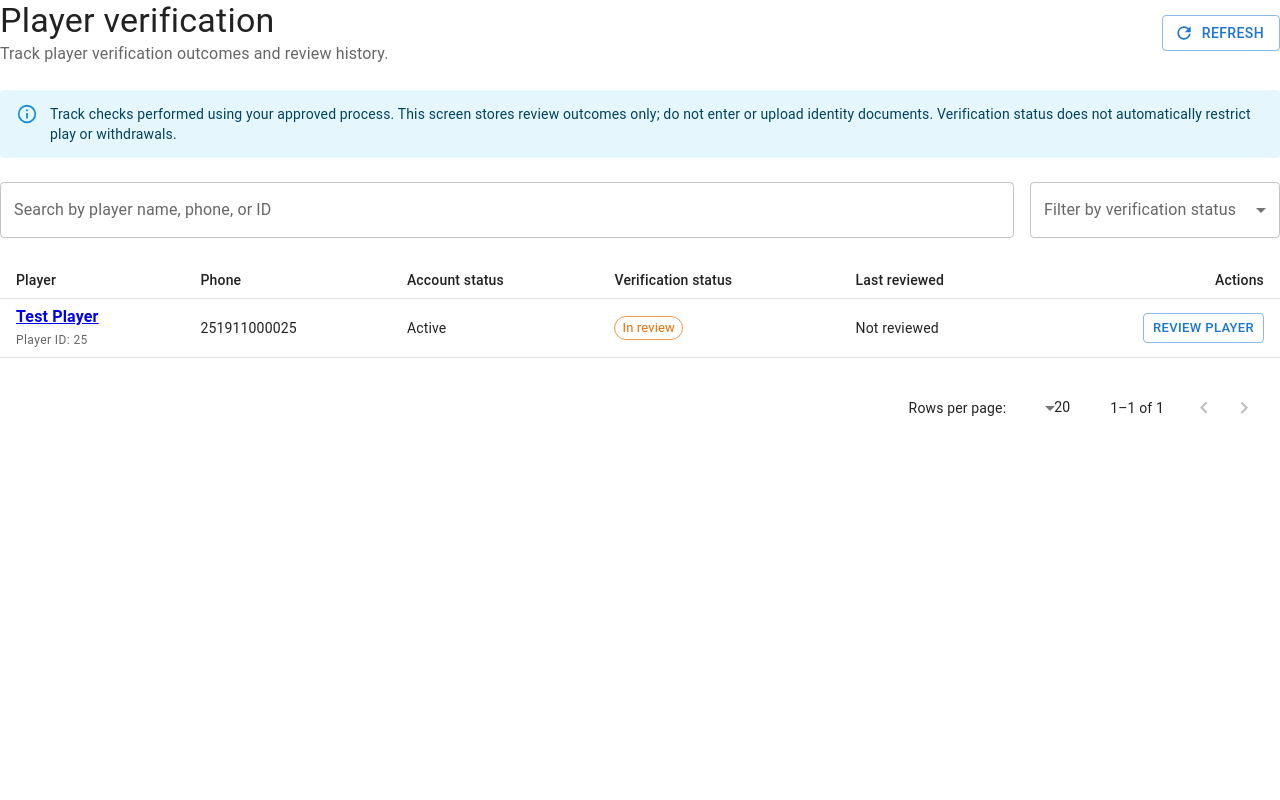
Test: PlayerVerificationPage › explains manual review, lists players, and records verified status with its matching reason
This screenshot has width=1280, height=800.
Expected: the heading "Player verification" is shown, x1=0 y1=0 x2=275 y2=40
Expected: the text "do not enter or upload identity documents" is shown, x1=50 y1=106 x2=1251 y2=142
Click the button "Review player".
click(1204, 328)  # box x1=1143 y1=313 x2=1264 y2=343
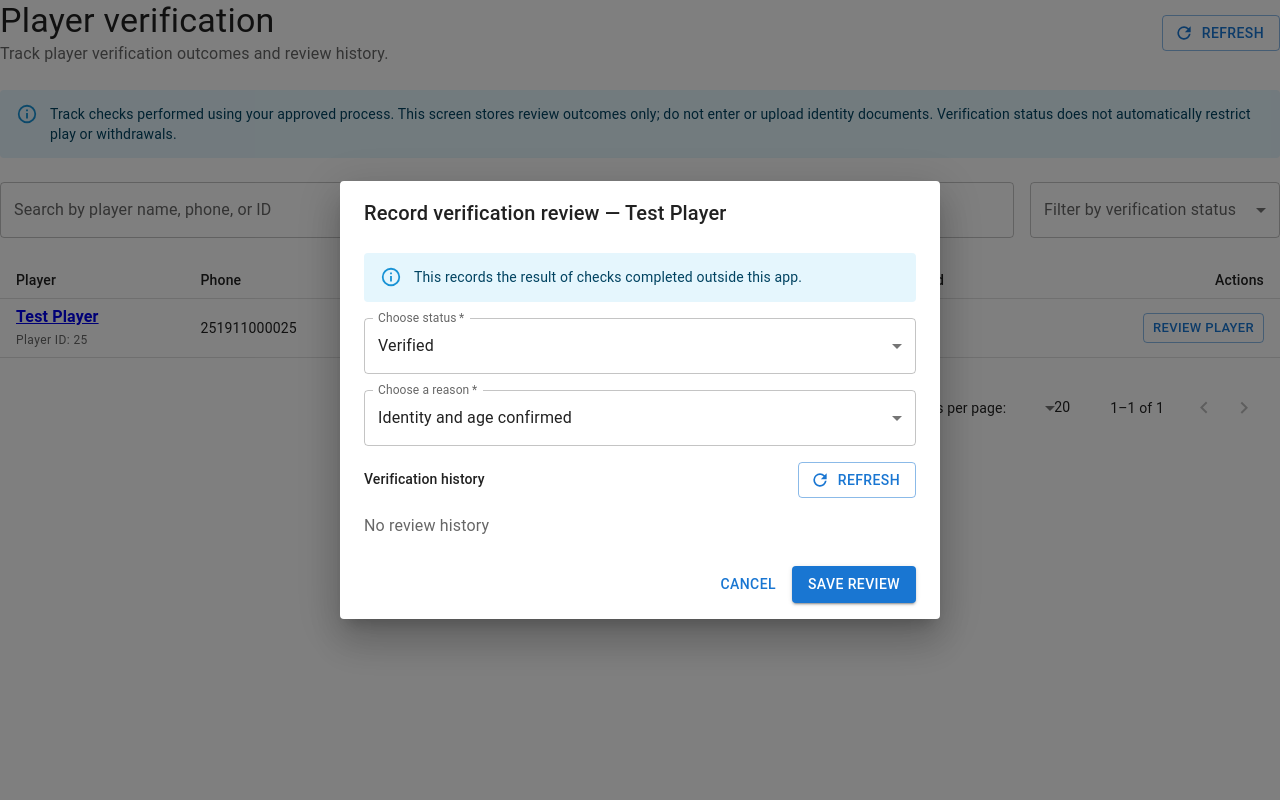
Result: the heading "Record verification review — Test Player" is shown at x1=364 y1=202 x2=726 y2=226
Result: the text "No review history" is shown at x1=364 y1=516 x2=489 y2=535
Click the dropdown named "Choose status".
click(406, 346)  # box x1=378 y1=336 x2=434 y2=355
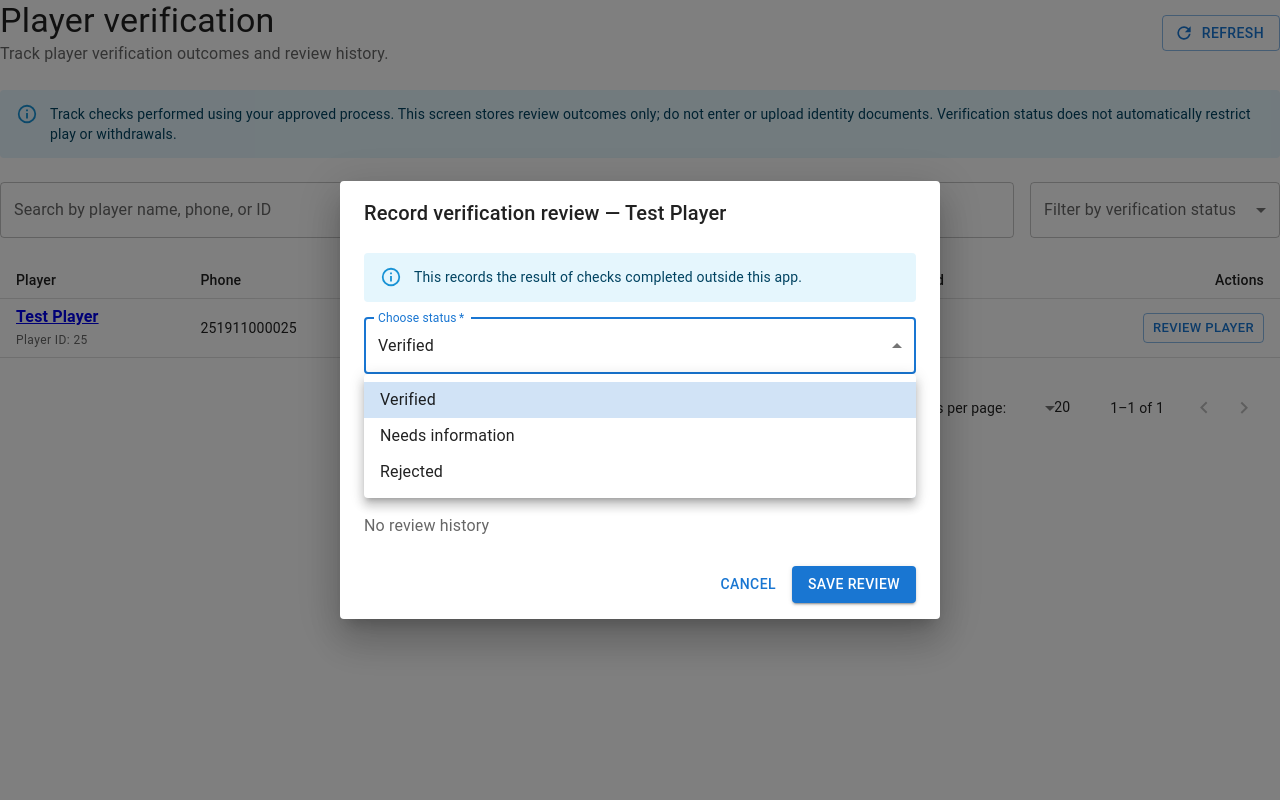
Click the option "Verified".
click(408, 400)  # box x1=364 y1=382 x2=916 y2=418
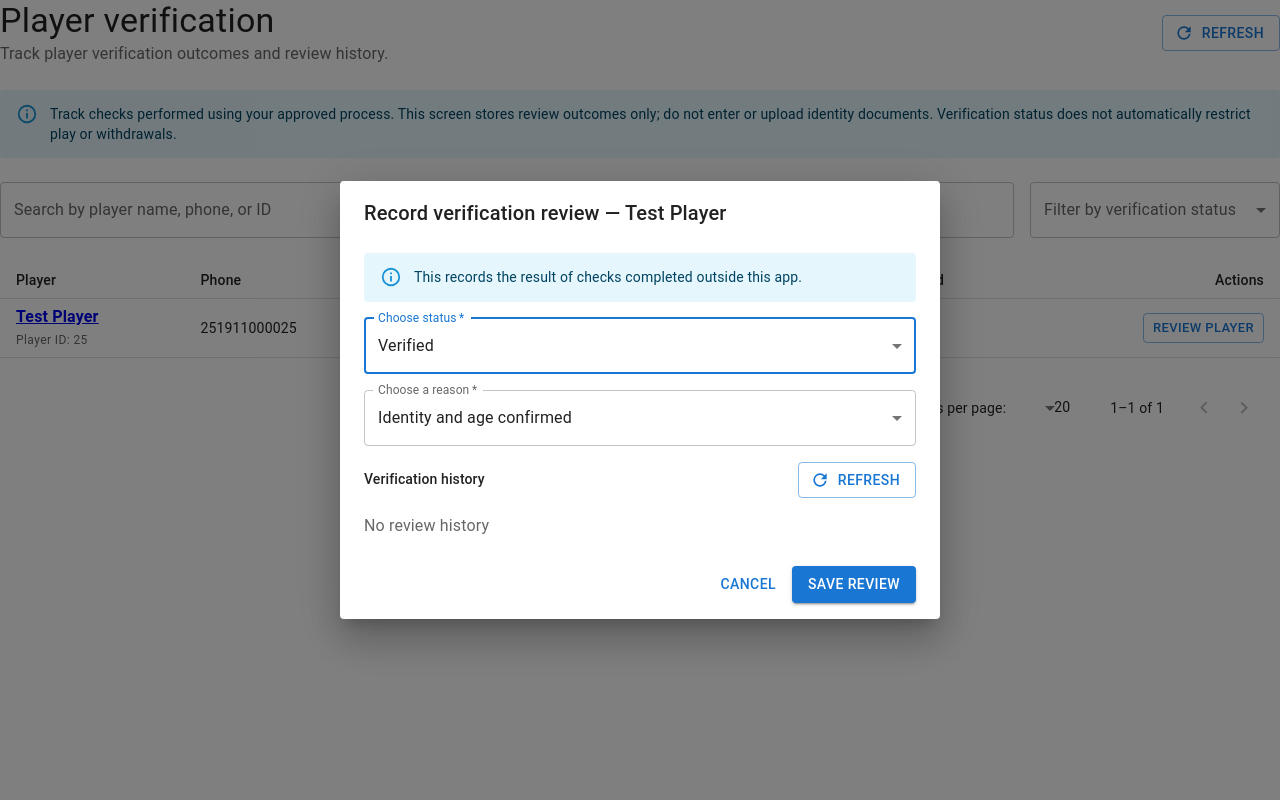
Result: the dropdown named "Choose a reason" reads "Identity and age confirmed" at x1=378 y1=408 x2=572 y2=427
Click the button "Save review".
click(854, 584)  # box x1=792 y1=566 x2=916 y2=602
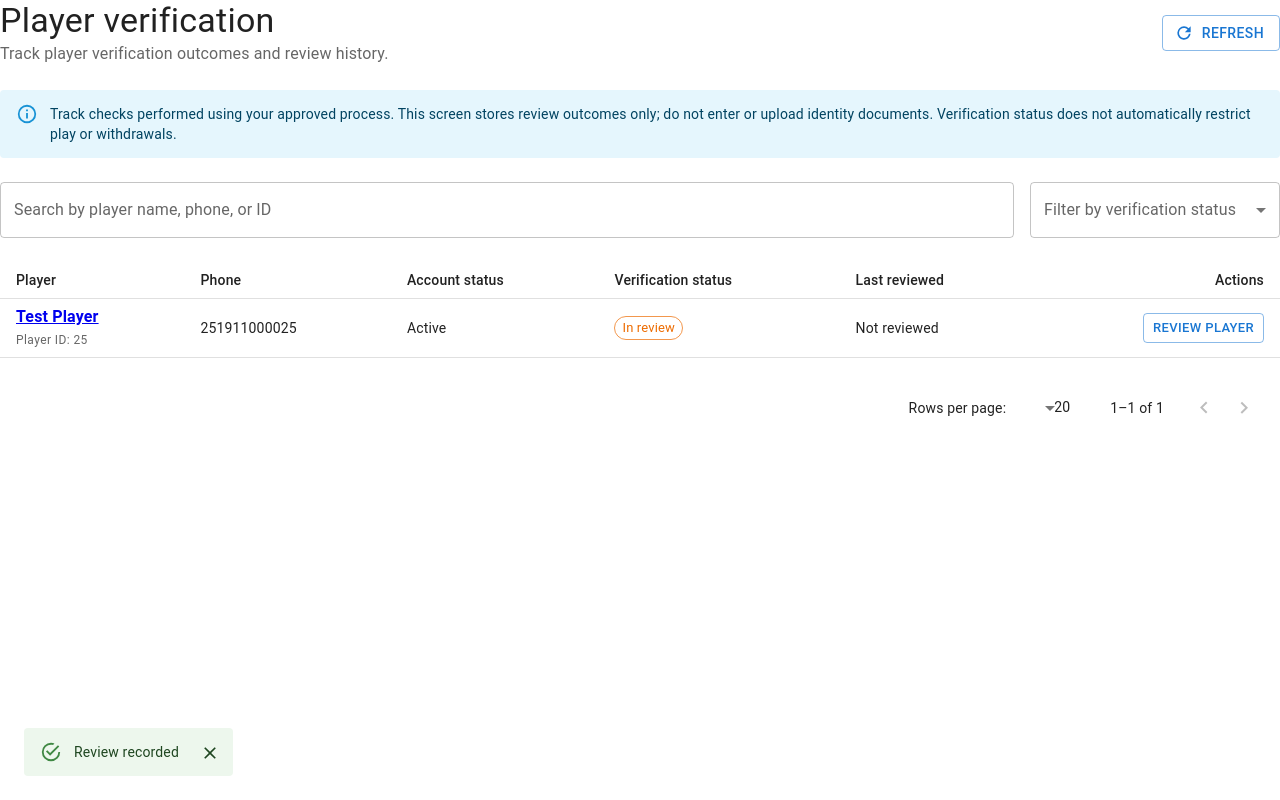
Result: the text "Review recorded" is shown at x1=74 y1=744 x2=179 y2=760
